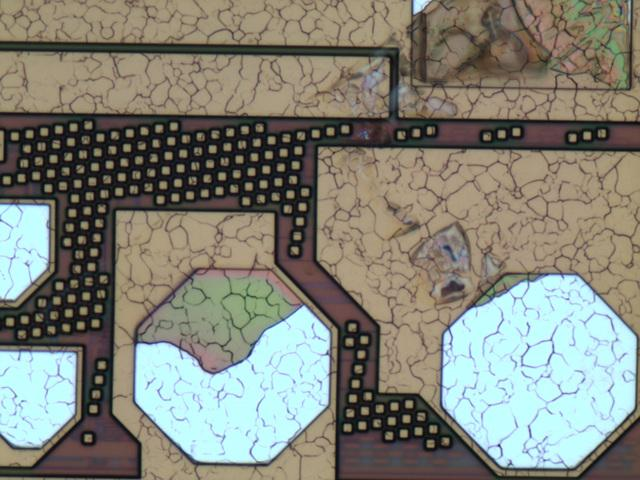COATING BAD: (134, 1, 640, 379)
